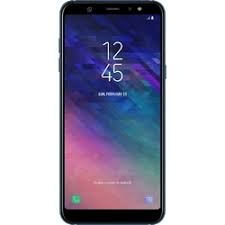samsung: (56, 1, 167, 225)
